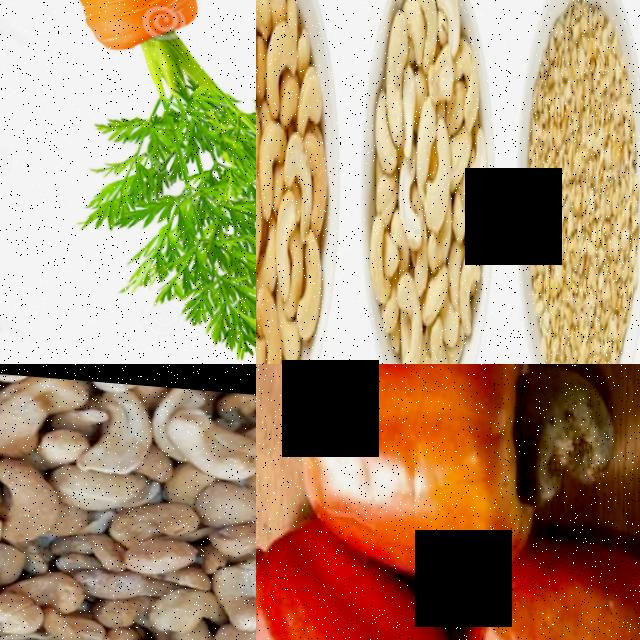carrot: (0, 0, 252, 142)
cashew: (512, 364, 633, 554), (161, 402, 256, 485), (93, 375, 156, 465), (259, 83, 297, 230), (376, 0, 416, 128), (302, 226, 336, 359), (52, 460, 143, 506), (0, 453, 45, 546), (427, 104, 457, 240), (114, 492, 197, 541), (151, 574, 219, 627), (362, 197, 396, 298), (268, 17, 304, 106), (216, 543, 256, 619), (276, 168, 306, 264), (295, 107, 320, 220), (458, 243, 486, 338), (456, 41, 485, 129), (120, 531, 183, 570), (462, 116, 490, 200), (314, 129, 336, 231), (402, 274, 423, 359), (418, 0, 438, 84), (433, 0, 463, 51), (429, 314, 455, 364), (261, 313, 286, 364), (101, 628, 203, 640), (256, 159, 266, 281), (256, 0, 271, 80)
